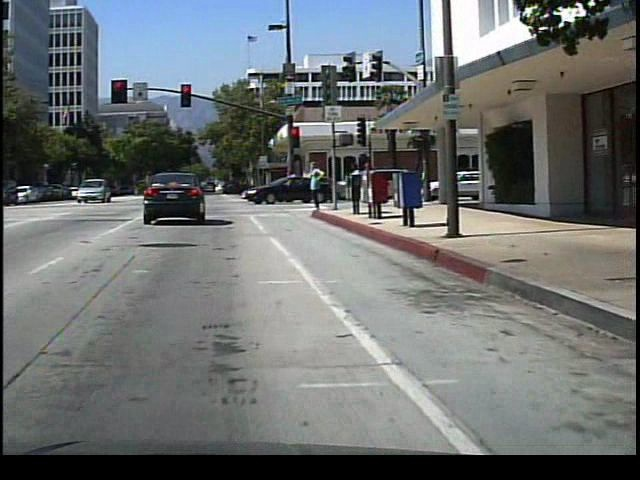person: (305, 153, 330, 215), (363, 155, 382, 206), (351, 157, 369, 205)
